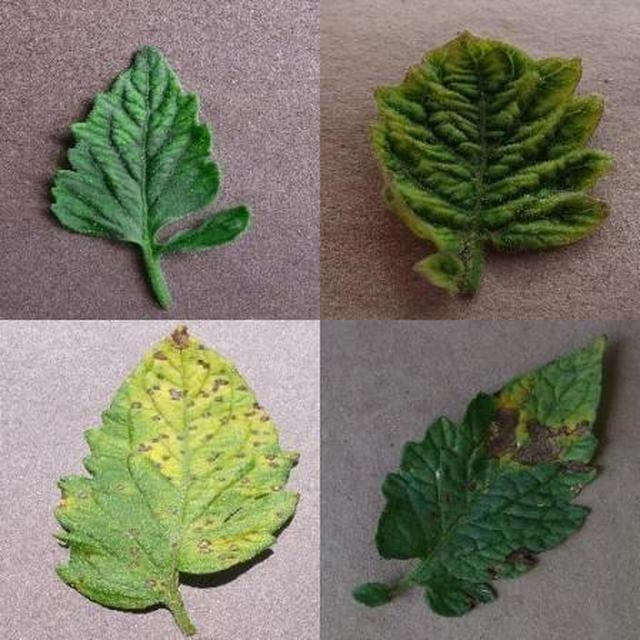Mosaic Virus Leaf: (212, 201, 640, 640)
